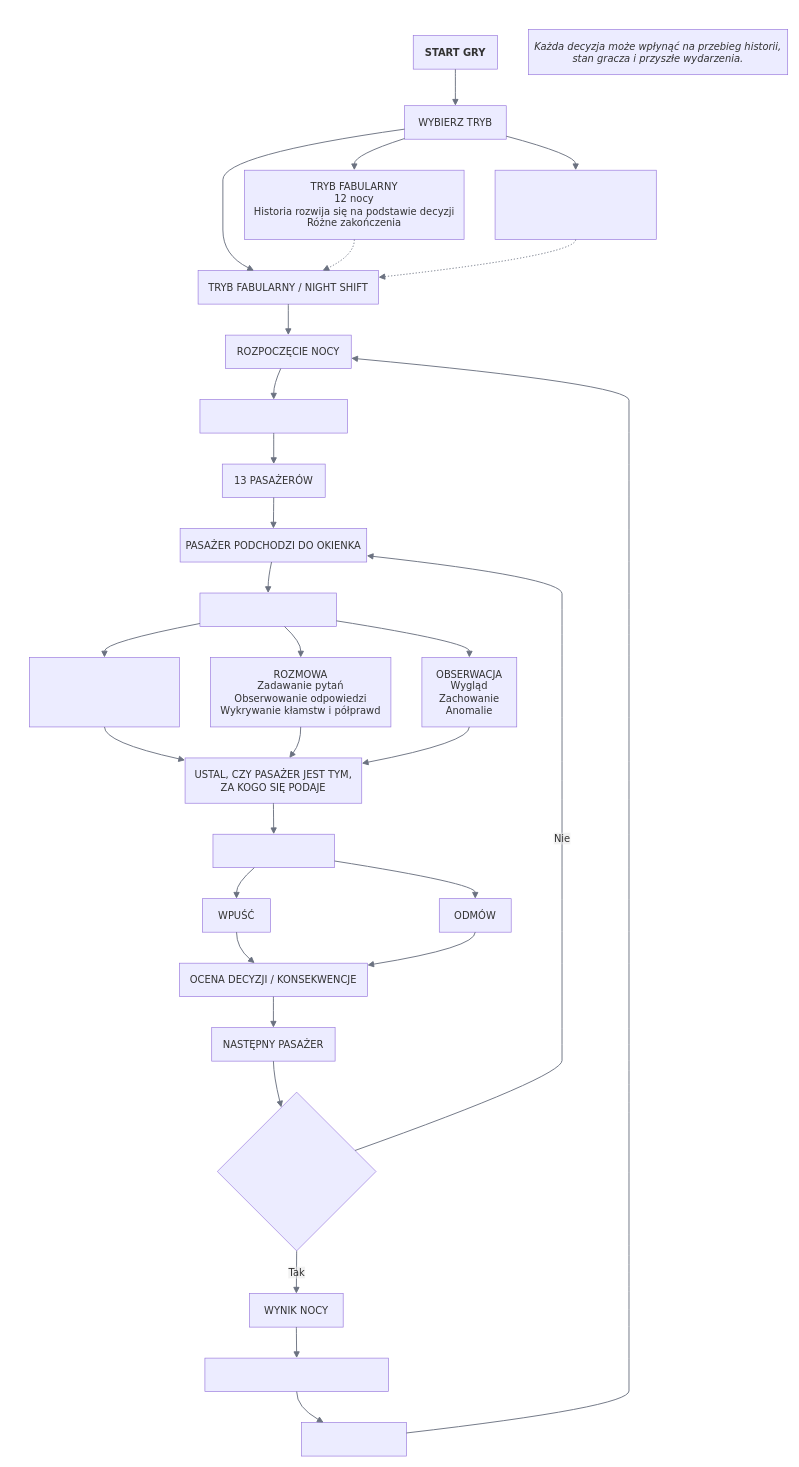
The diagram is 799 pixels wide and 1467 high, and some of its shapes have lost their labels. The shapes that lost their labels are listed below. From the top down, each one's centre as x and y in pixels, then its label:
At point (575, 205): "NIGHT SHIFT Nieskończone noce Coraz trudniejsze przypadki Wynik i rekord".
At point (273, 416): "BRIEFING I ZASADA NOCY".
At point (267, 609): "SPRAWDŹ DOKUMENTY".
At point (104, 692): "DOKUMENTY Sprawdzenie danych Porównanie informacji Wykrywanie niezgodności".
At point (273, 851): "PODEJMIJ DECYZJĘ".
At point (296, 1171): "CZY TO 13. PASAŻER?".
At point (296, 1374): "POSTĘP / WYDARZENIA / FABUŁA".
At point (353, 1439): "NASTĘPNA NOC".
